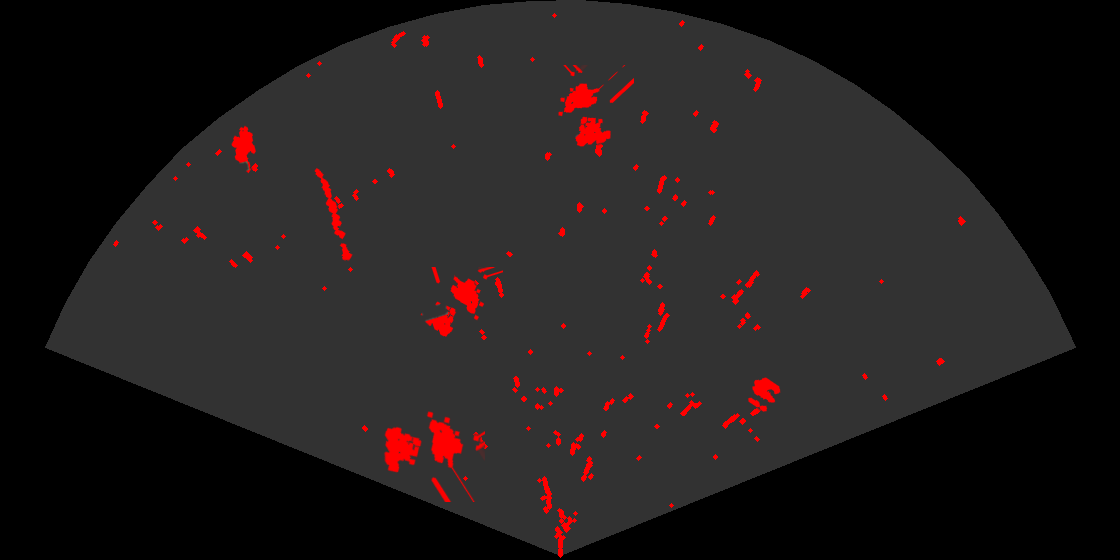AUV: (230, 124, 257, 175)
ball: (747, 376, 782, 413)
cage: (382, 410, 485, 502), (557, 65, 634, 148), (419, 267, 503, 338)
chain: (313, 167, 354, 263)
